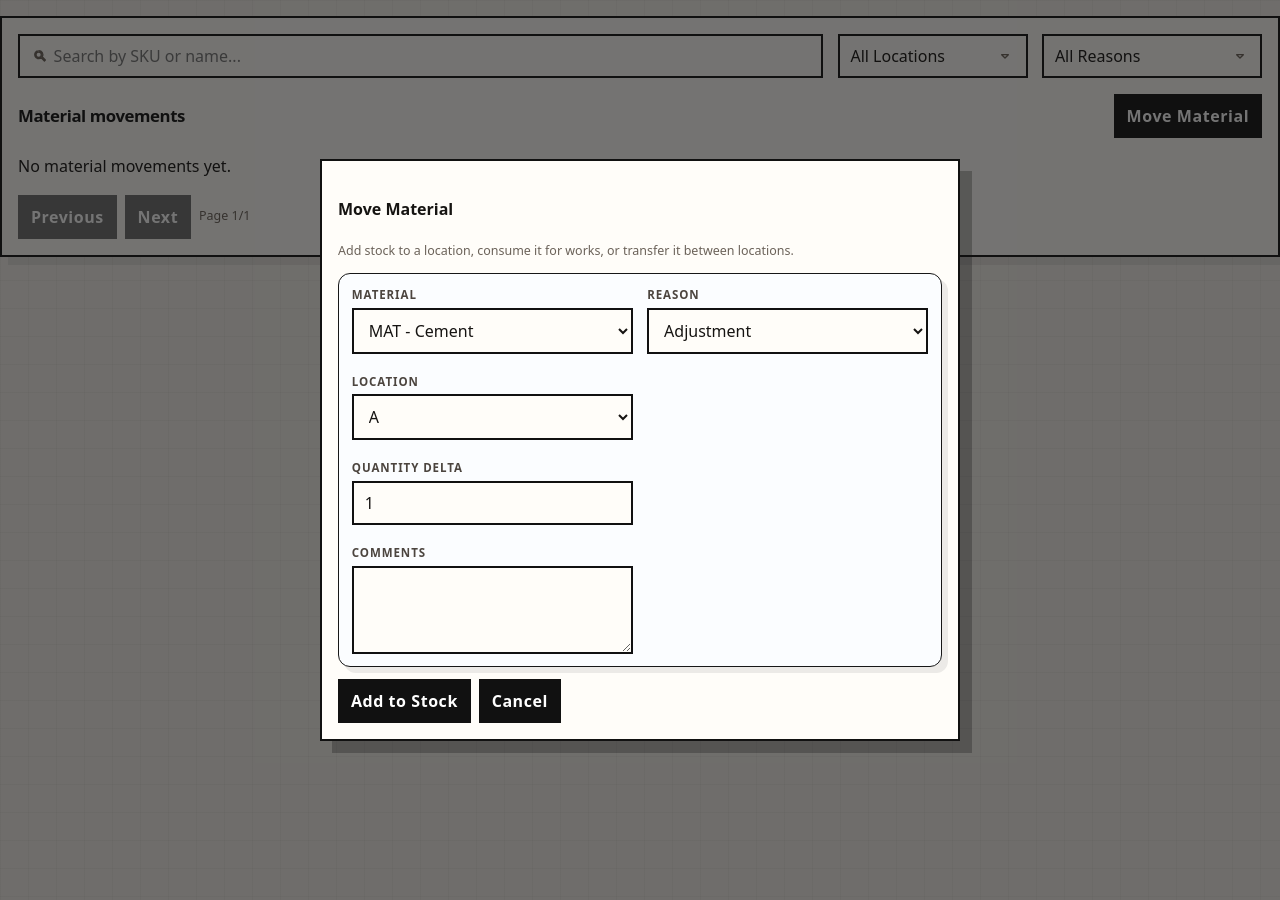
Test: stock movement form errors › shows an API failure inside the dialog, preserves inputs, and clears it on a successful retry
Replace the text in the number field labelled "Quantity Delta" with "-101" at coordinates (492, 503), box [352, 481, 633, 525]
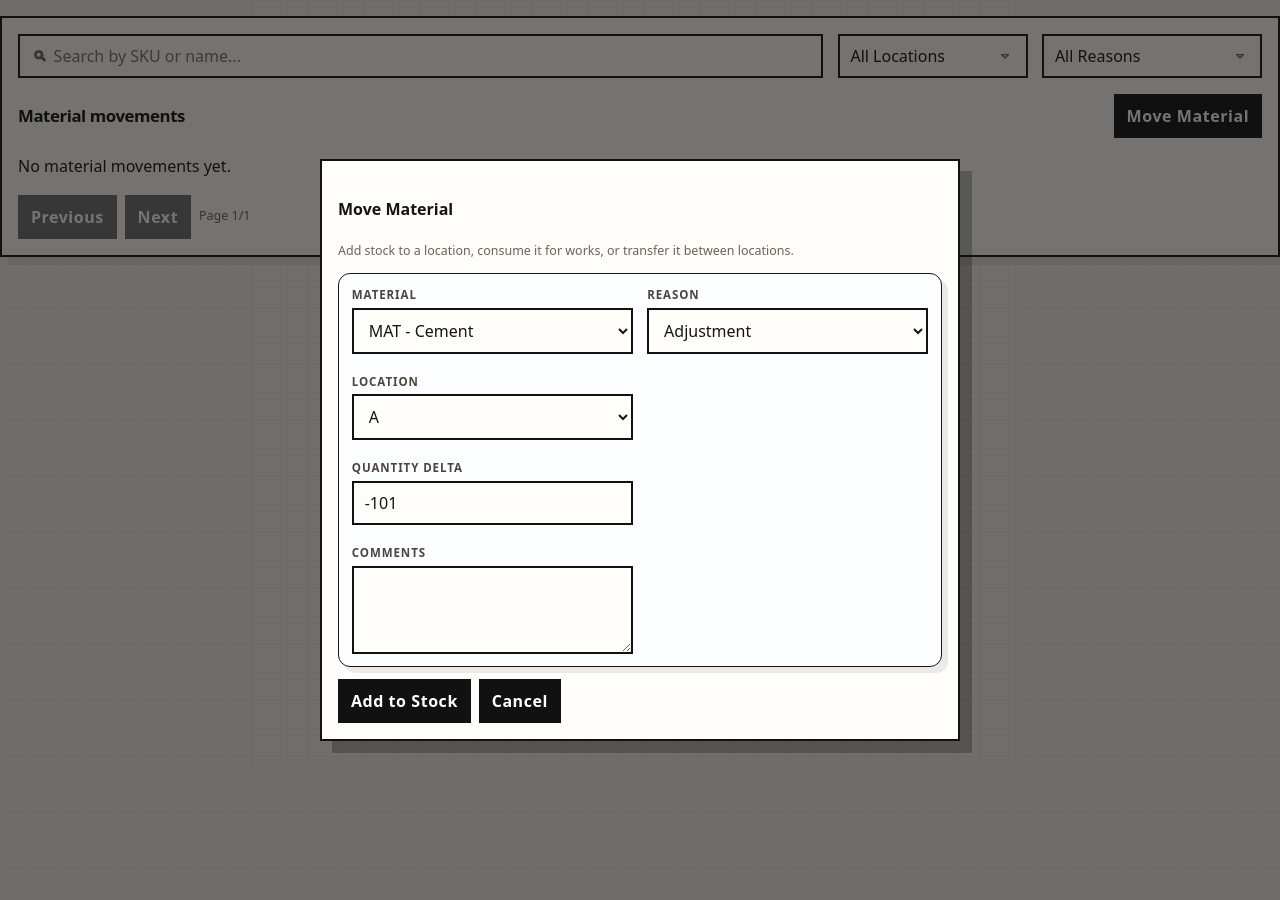
Type "Cycle count" into the text box labelled "Comments".
click(492, 610); type("Cycle count")  # box [352, 566, 633, 654]
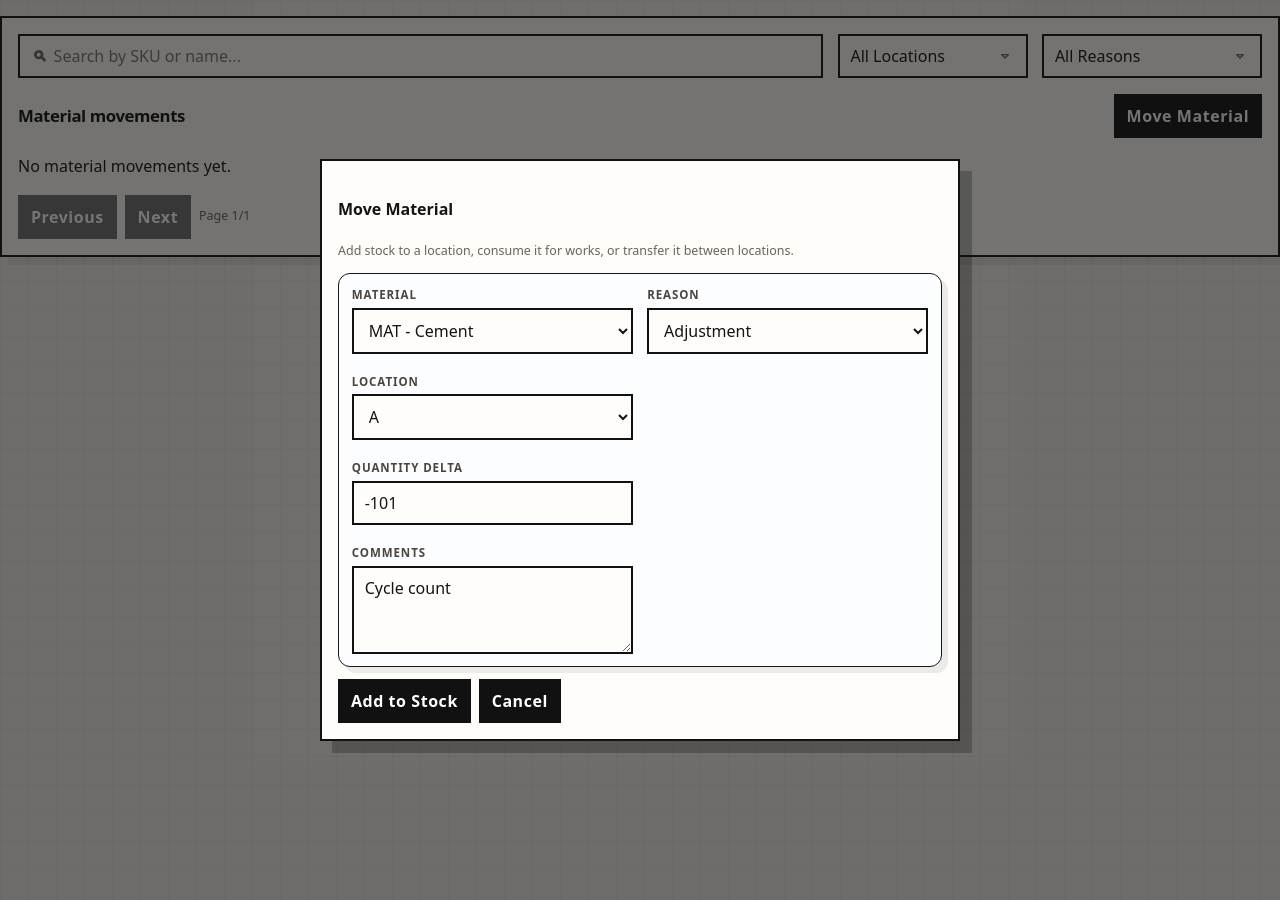
Click the button "Add to Stock".
click(404, 701)  # box [338, 679, 471, 723]
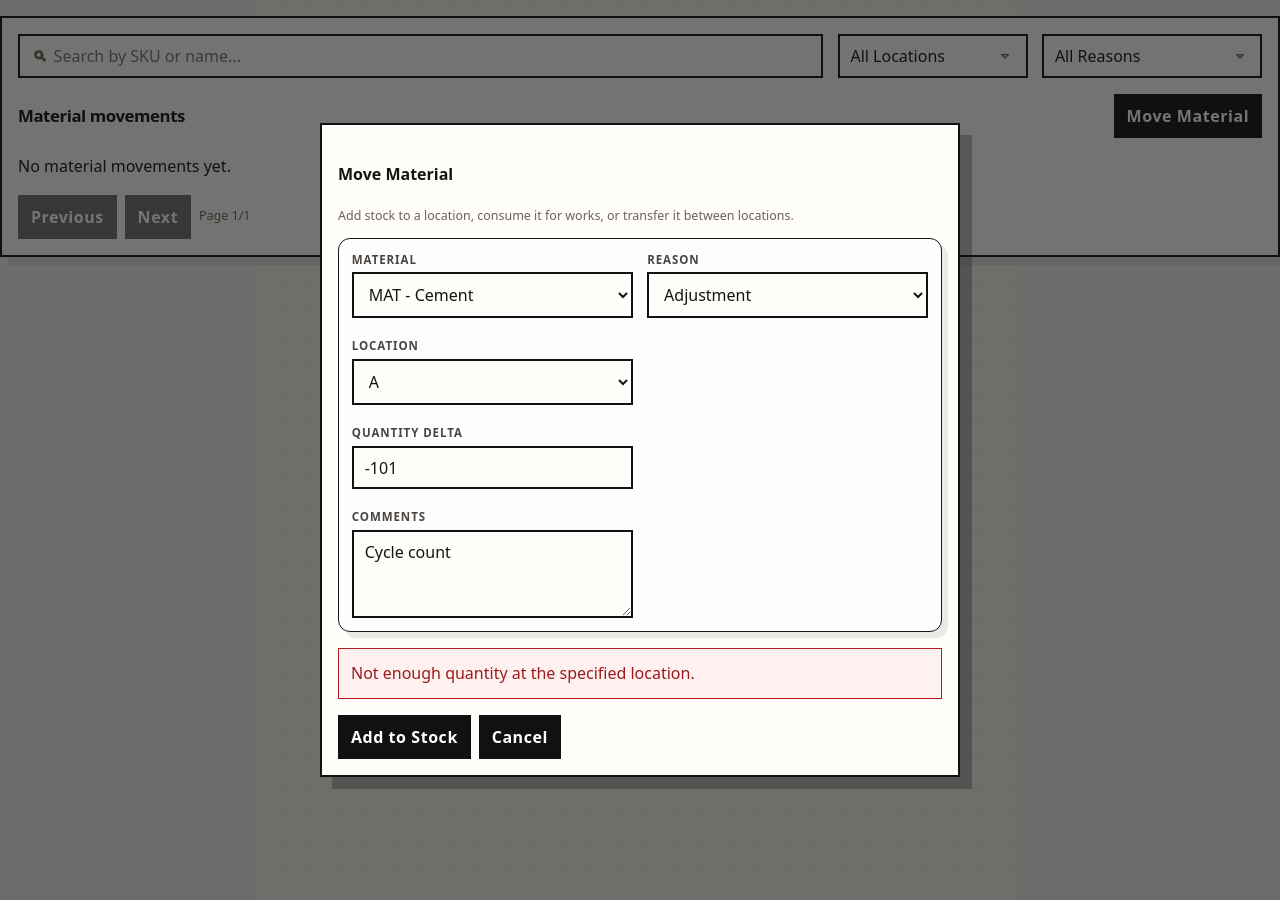
expect the message reads "Not enough quantity at the specified location.": met, box [351, 662, 695, 684]
Replace the text in the number field labelled "Quantity Delta" with "1" at coordinates (492, 468), box [352, 446, 633, 490]
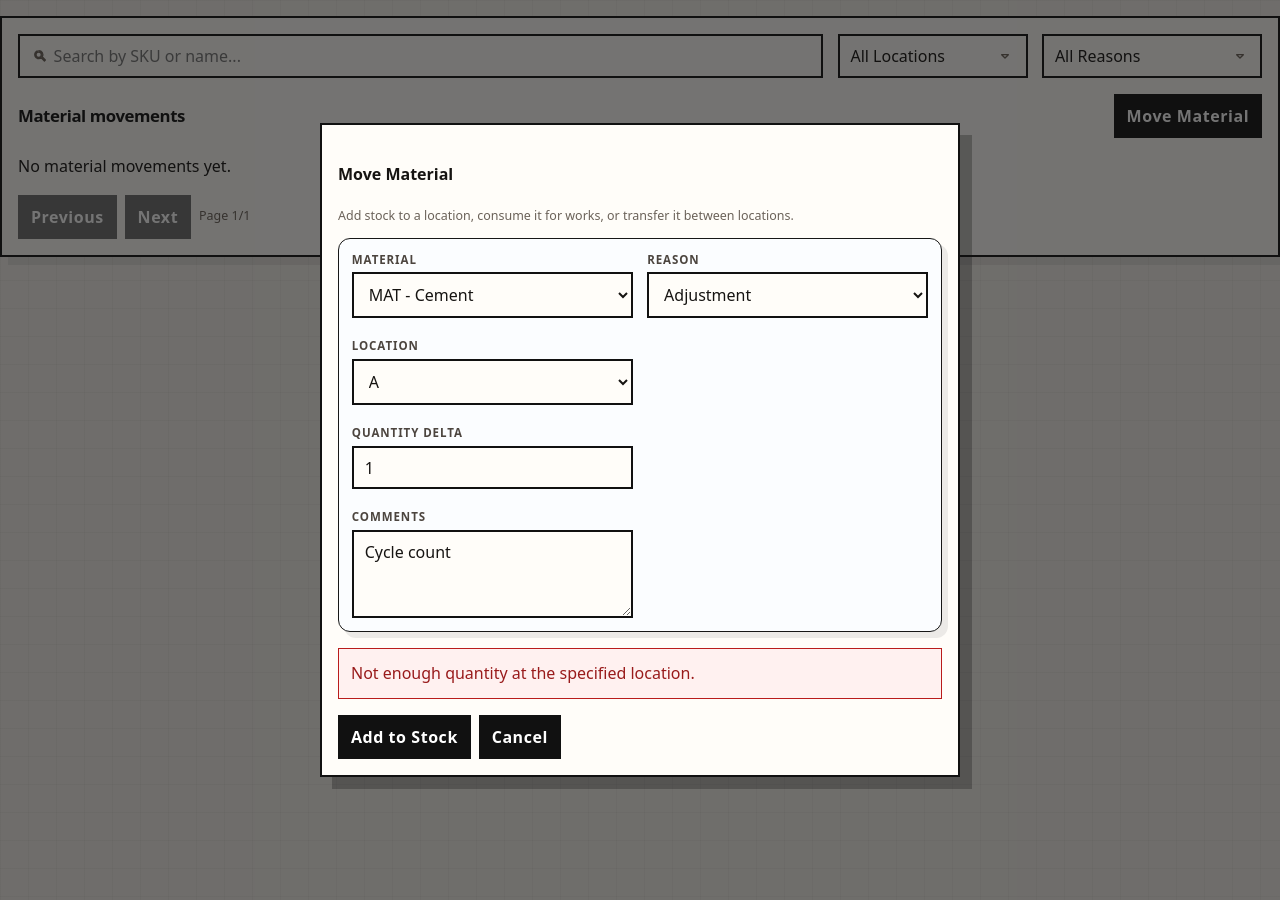
Click the button "Add to Stock".
click(404, 737)  # box [338, 715, 471, 759]
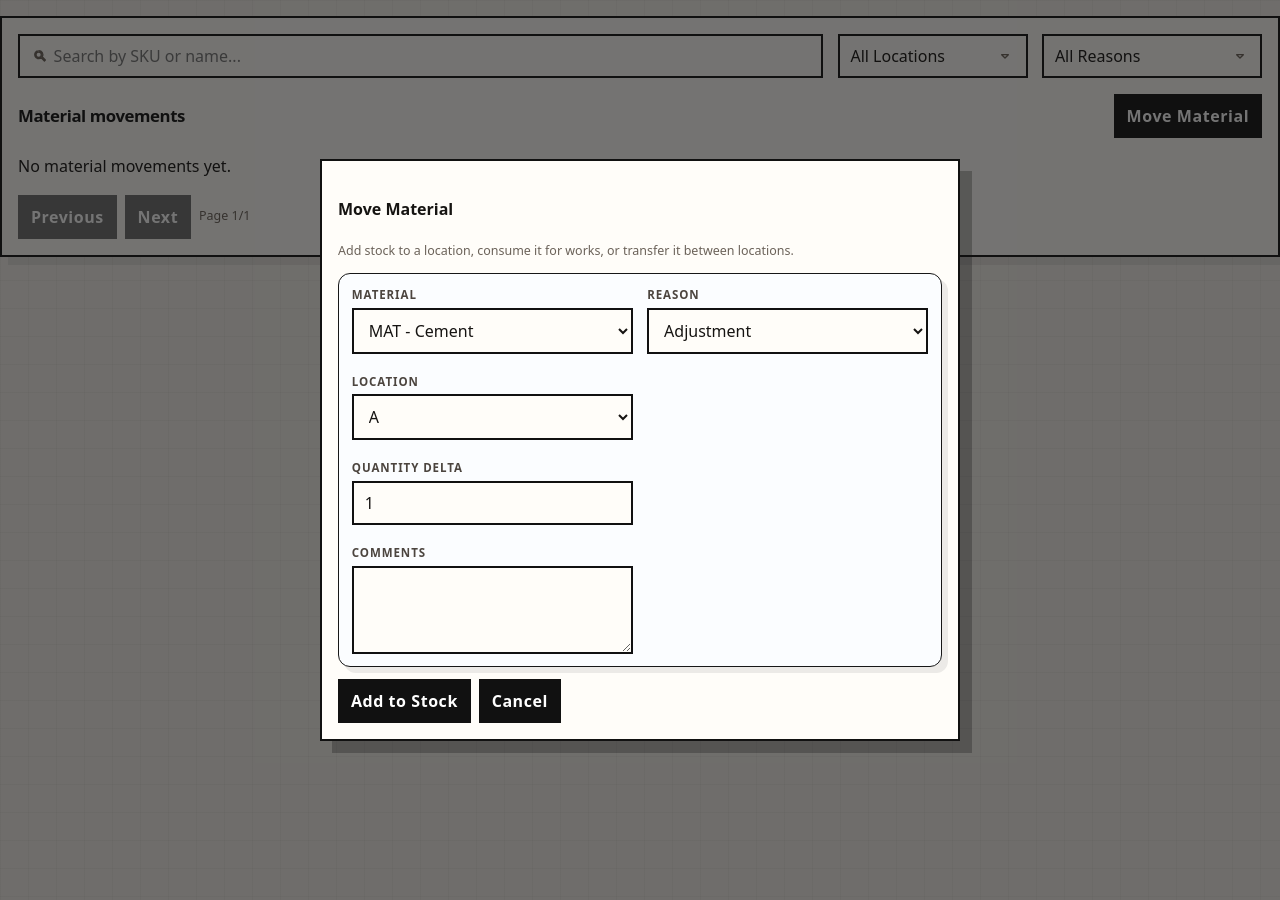
expect the message "Not enough quantity at the specified location." is gone: met
